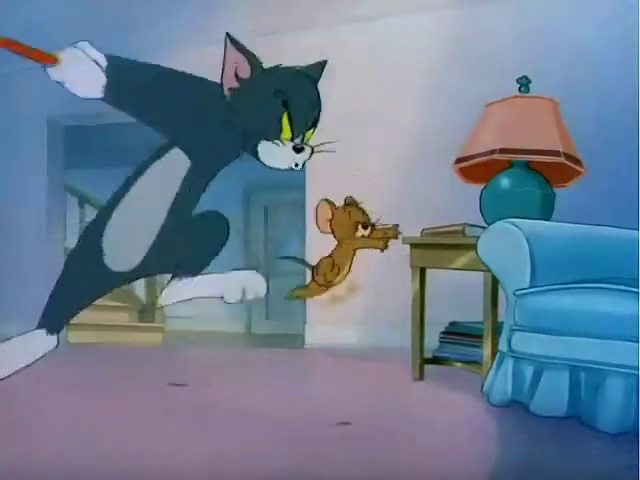jerry: (298, 183, 419, 327)
tom: (25, 33, 318, 313)
